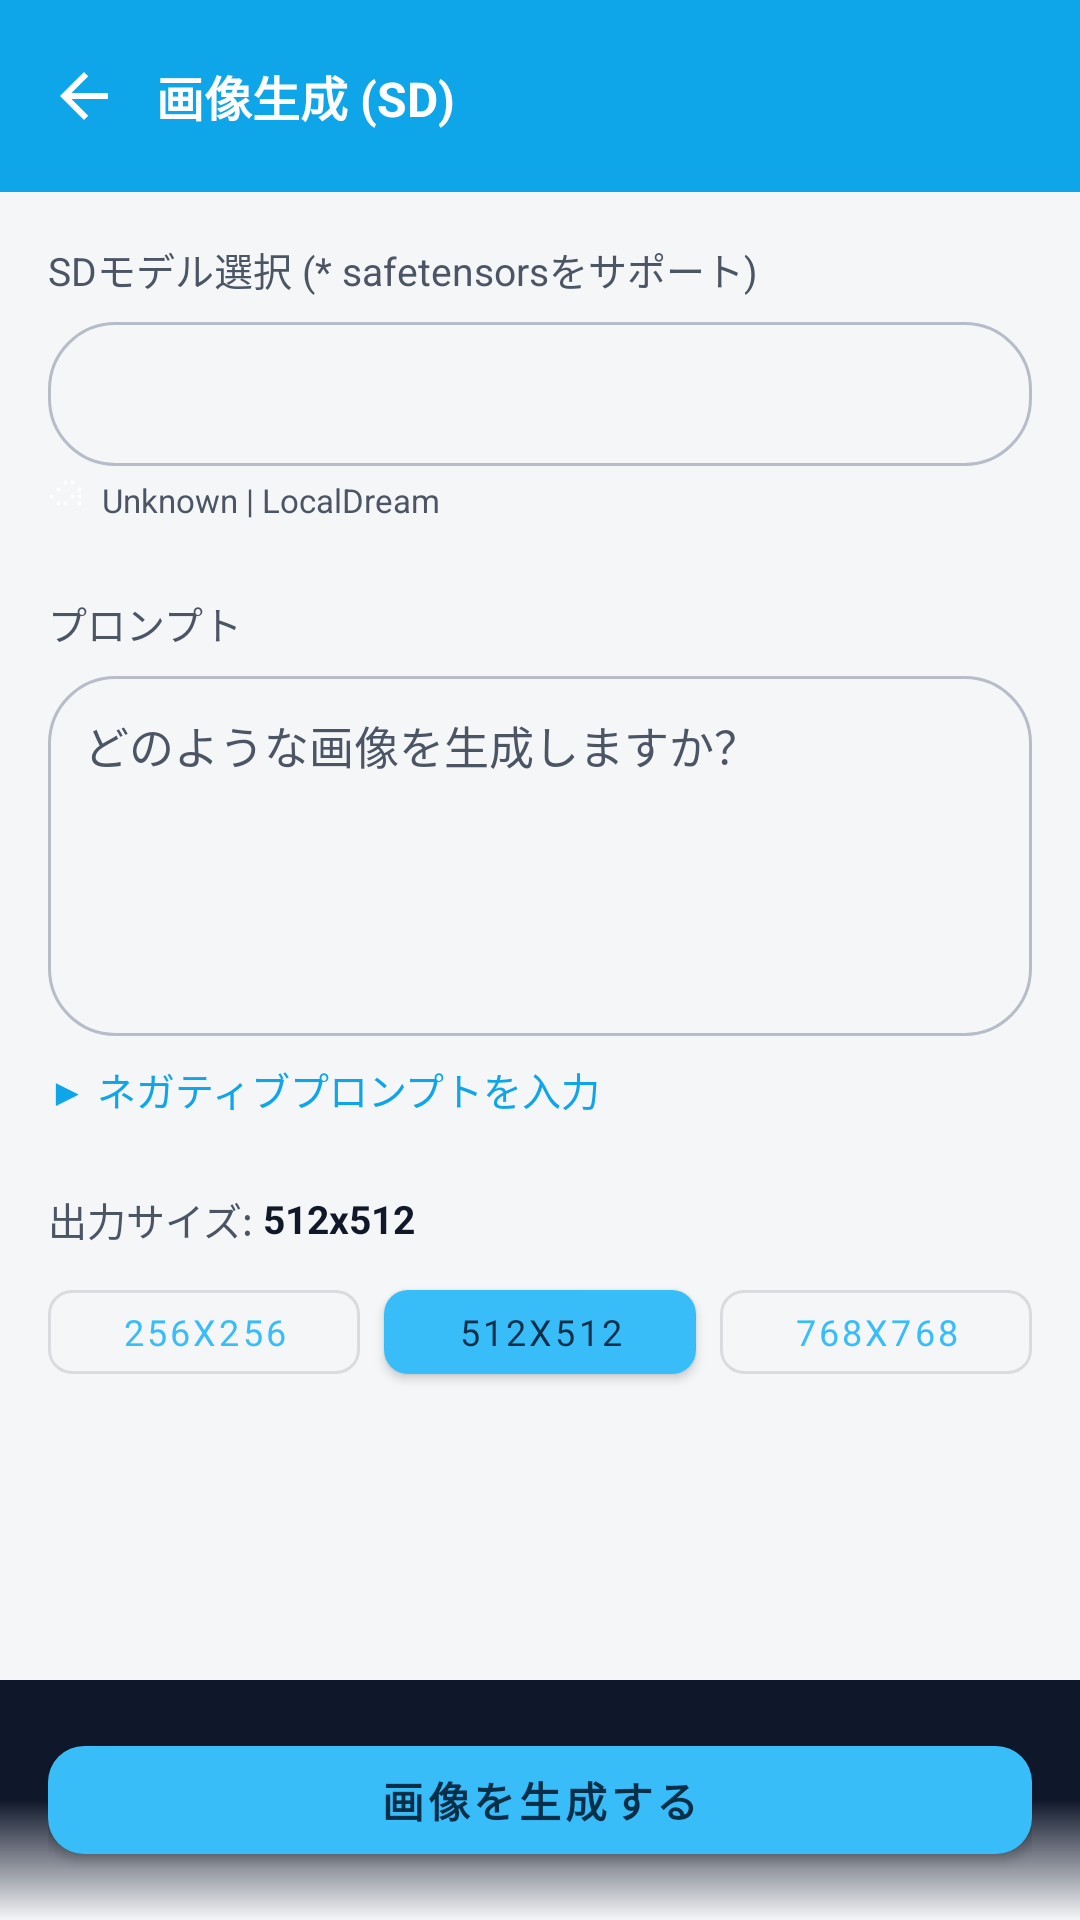

Point at icon controls on the screen. Image size 1080px x 1920px, points as point (x, y).
戻る: point (84, 96)
